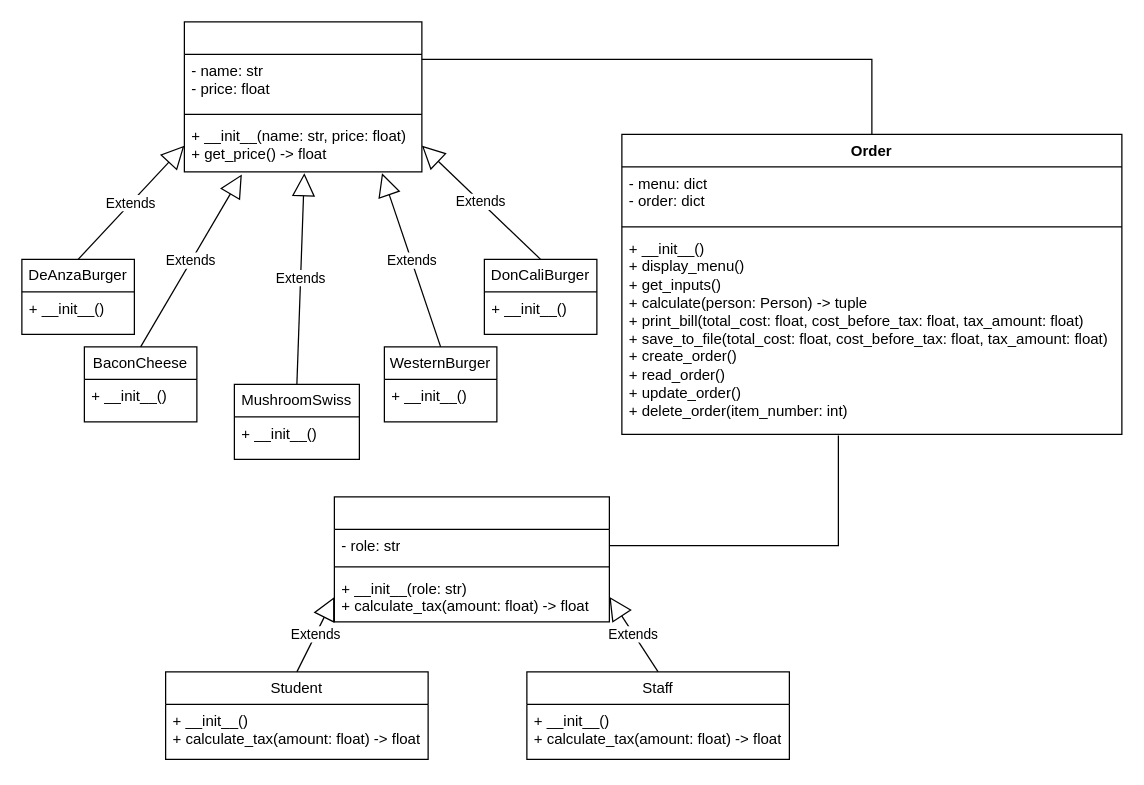
Some shapes in this 1144 by 785 pixel diagram are drawn without their labels. Each missing label, with the box of its shape:
Burger: (183, 21, 422, 172)
Person: (333, 496, 609, 622)
